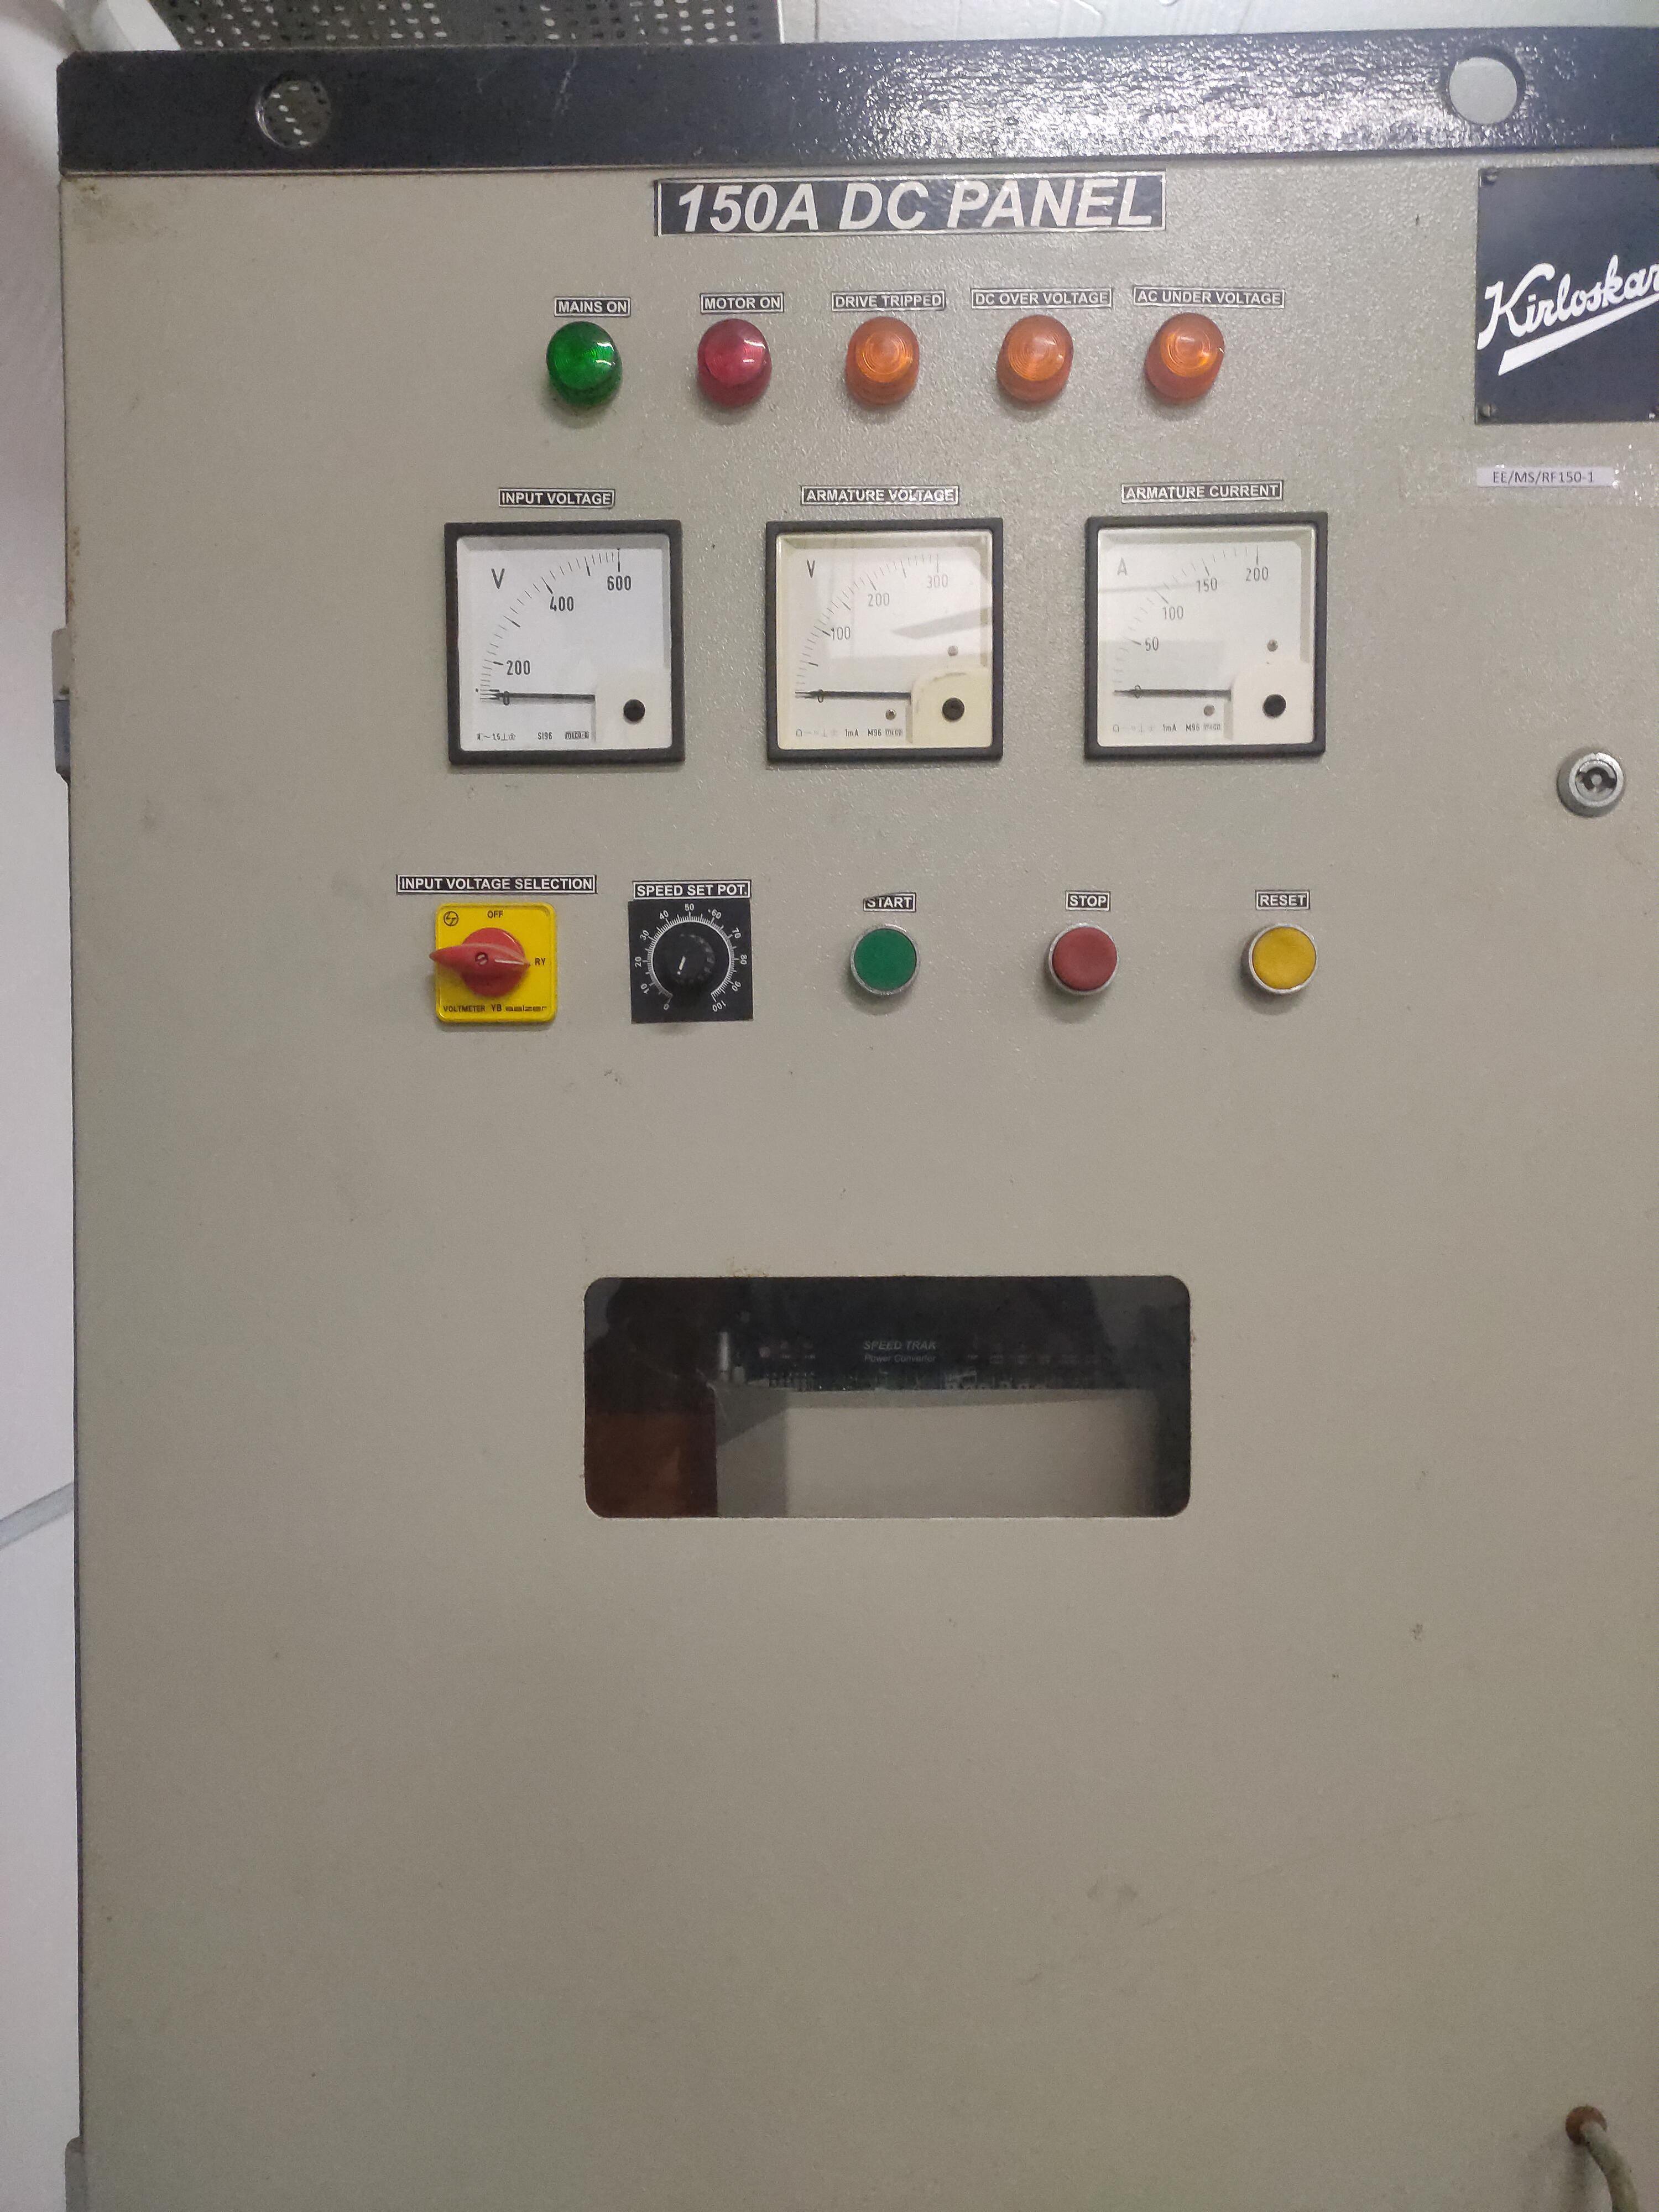Light Indications: (507, 260, 1253, 463)
